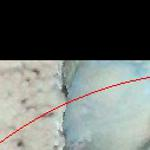alive: (1, 64, 147, 147)
